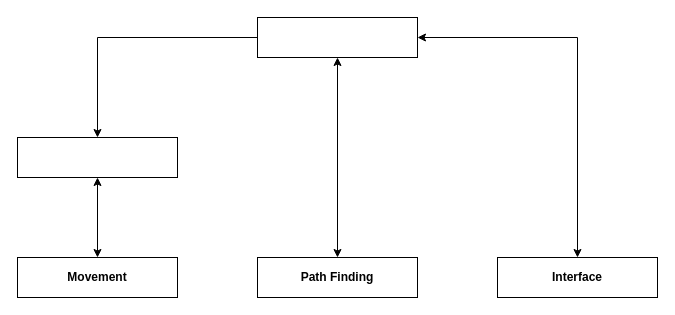
The diagram is 675 pixels wide and 315 high, and some of its shapes have lost their labels. Here are the shapes that lost their labels. From the top down, the box of each, then its label:
(256, 16, 418, 58): Raspberry Pi
(16, 136, 178, 178): TM4C Redboard Microcontroller
